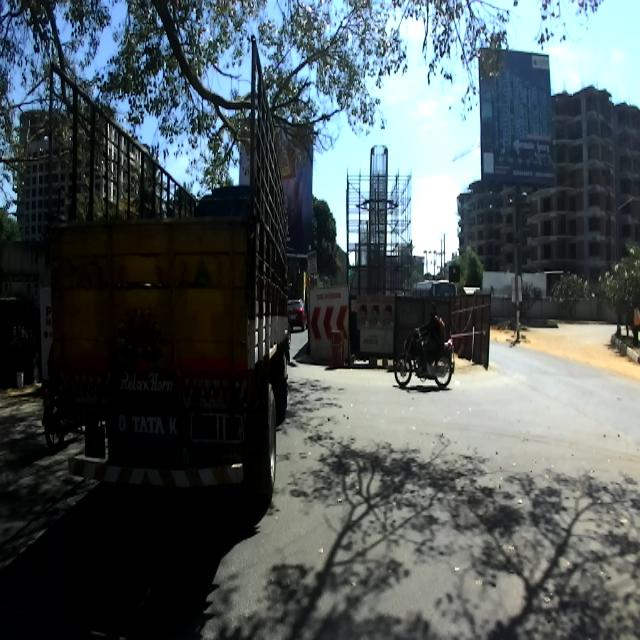motorcycle ahead at: (390, 326, 458, 392)
truck ahead at: (38, 38, 302, 544)
